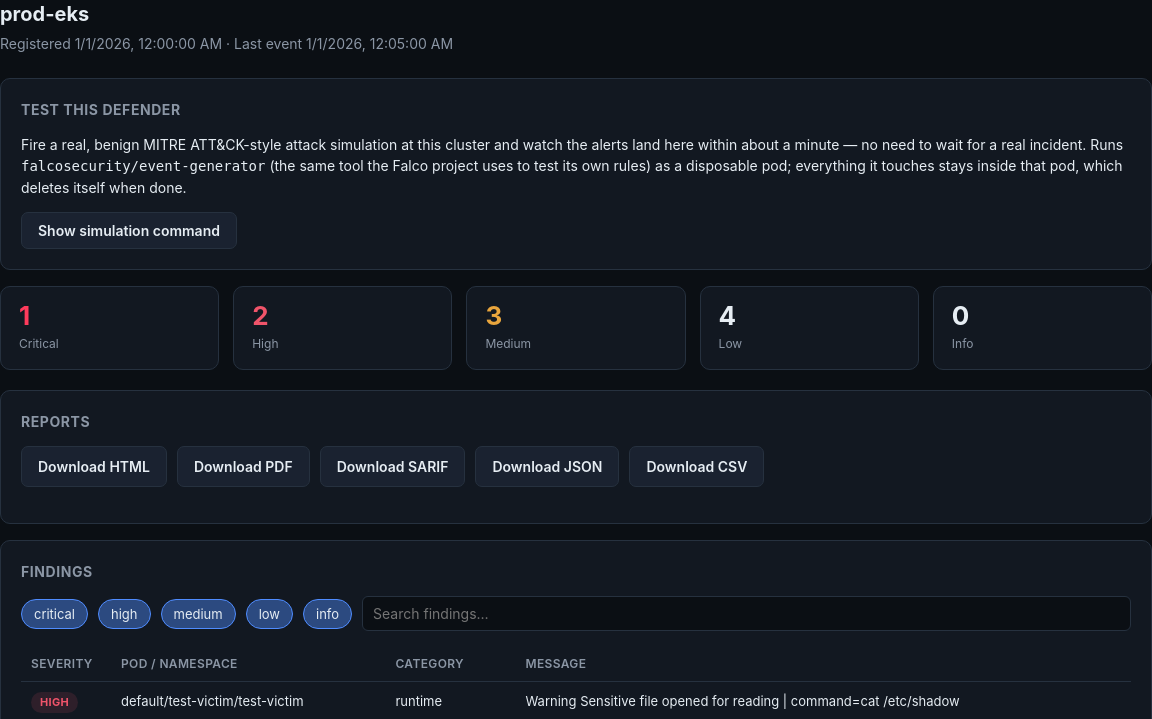
RuntimeClusterDetail › filters findings by severity, and re-adding a severity brings its findings back
Expected: the text "command=cat /etc/shadow" is shown, [526,693,960,709]
What coordinates should you click on to do the following:
click the button "high"
I would click on:
 (124, 614)
Its box is [98,598,150,628].
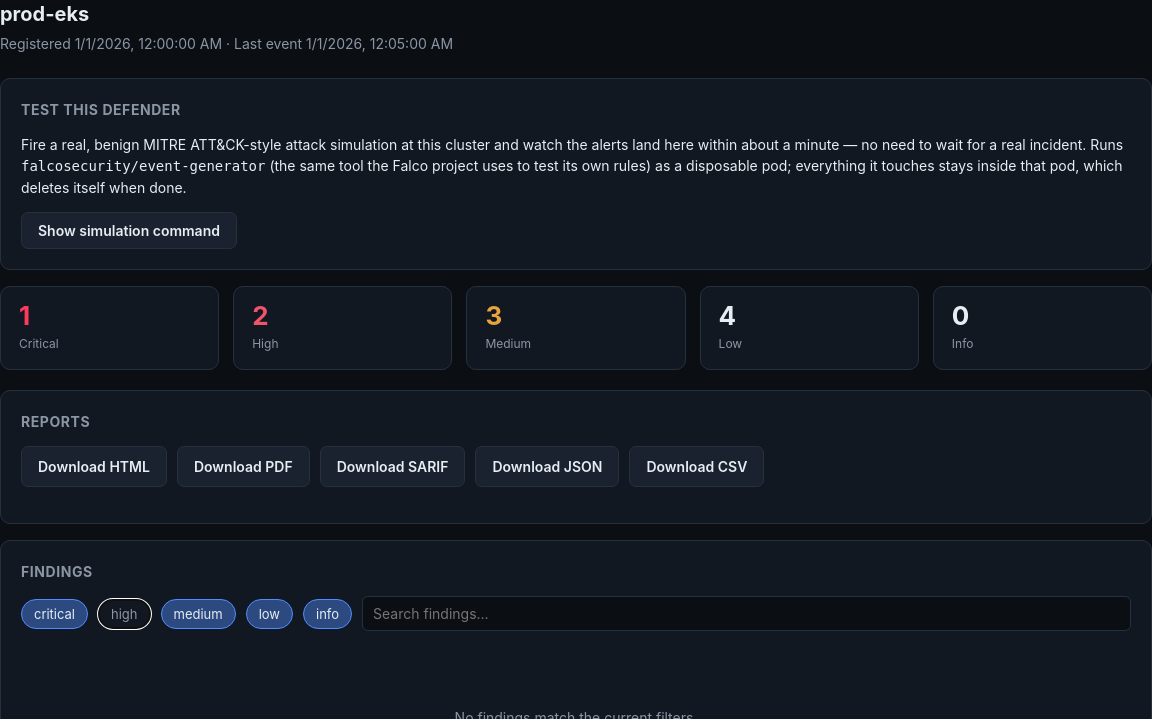
What coordinates should you click on to do the following:
click the button "high"
I would click on:
 (124, 614)
Its box is [98,598,150,628].
(page scrolled)
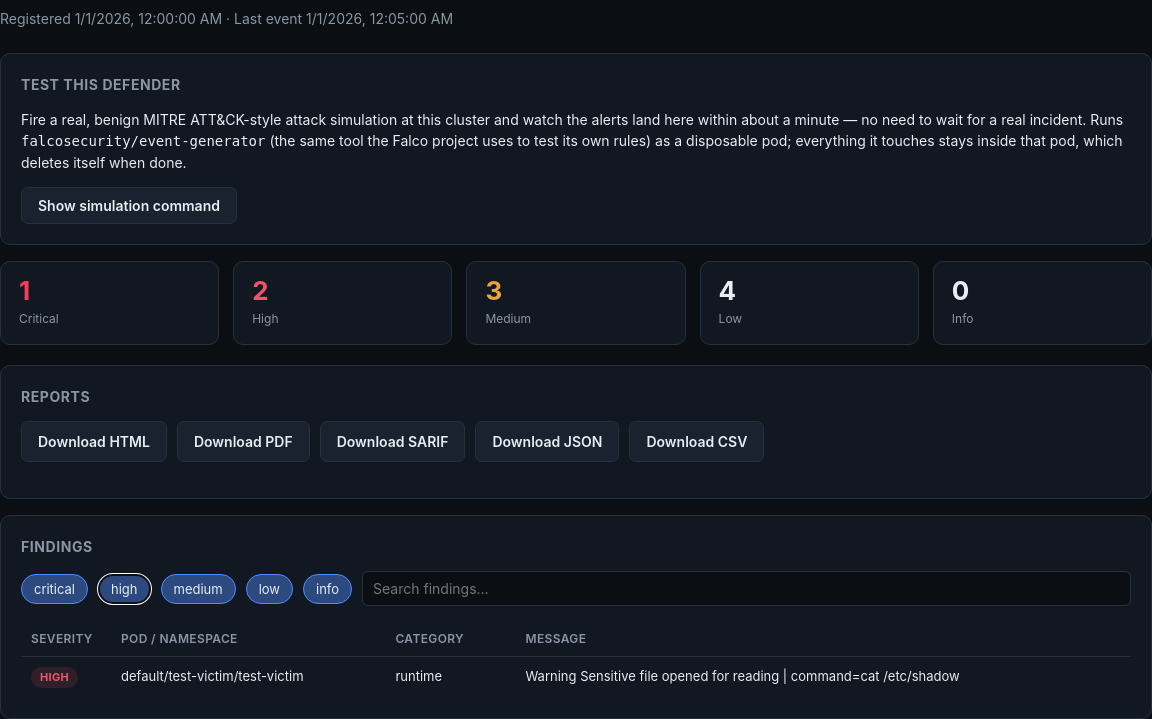
Result: the text "command=cat /etc/shadow" is shown at [526,668,960,684]
